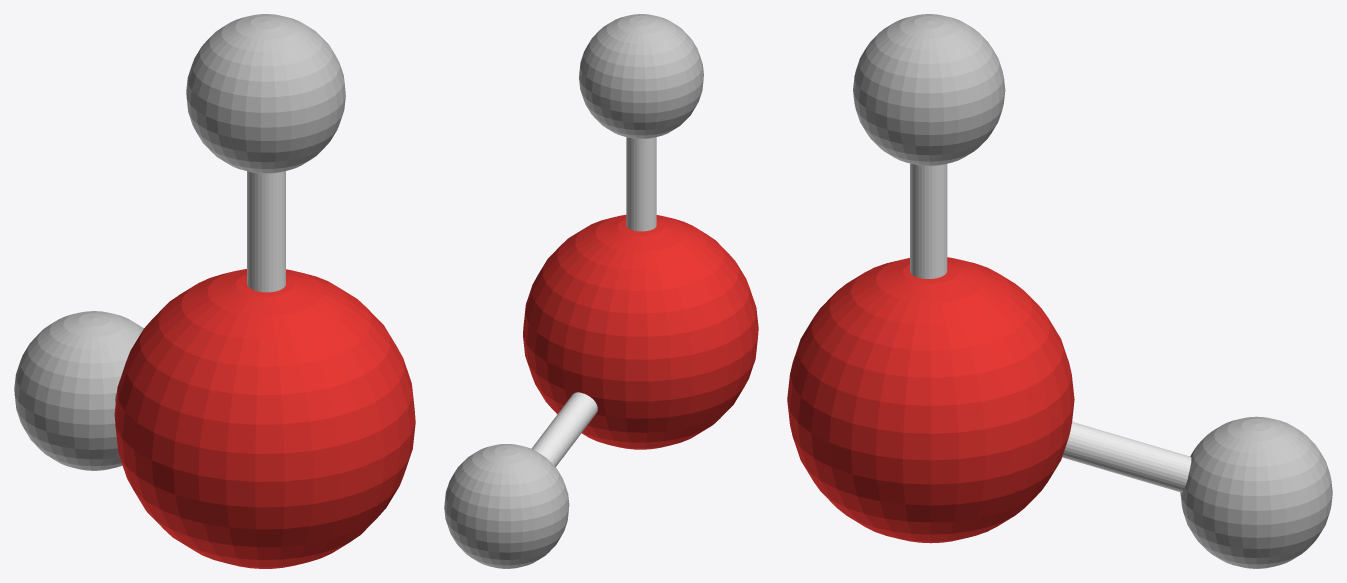
3 views of the same model, side by side, from view 1: azimuth 30°, elevation 25°; view 2: azimuth 150°, elevation 25°; view 3: azimuth 270°, elevation 25° (orthographic). The views are drawn at different scales.
Visible parts, largest first — view 1: Sphere.003; view 2: Sphere.003; view 3: Sphere.003.
Part boxes in pixels (bbox=[...]): Sphere.003: bbox=[14, 14, 415, 568]; Sphere.003: bbox=[444, 14, 758, 568]; Sphere.003: bbox=[787, 14, 1332, 568].
Size of the model in its own units: 15.49 by 32.16 by 29.4.
